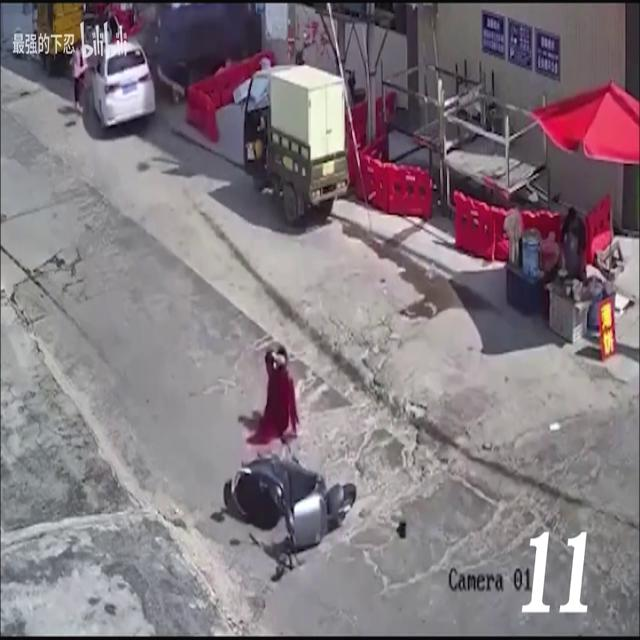accident: (225, 342, 407, 584)
non-accident: (240, 62, 434, 228), (70, 35, 186, 138)
